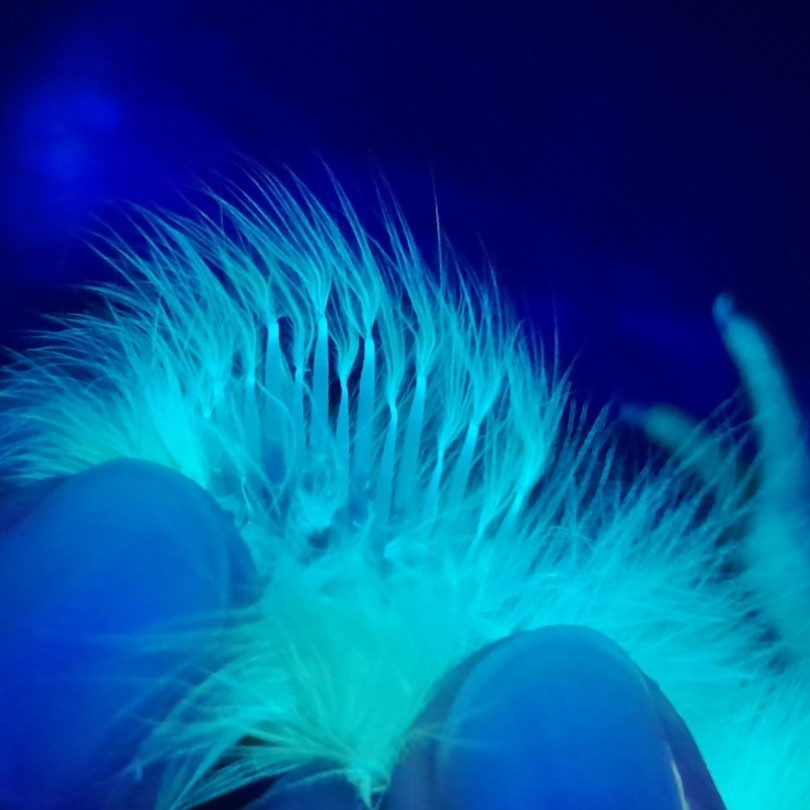female: (229, 310, 511, 568)
